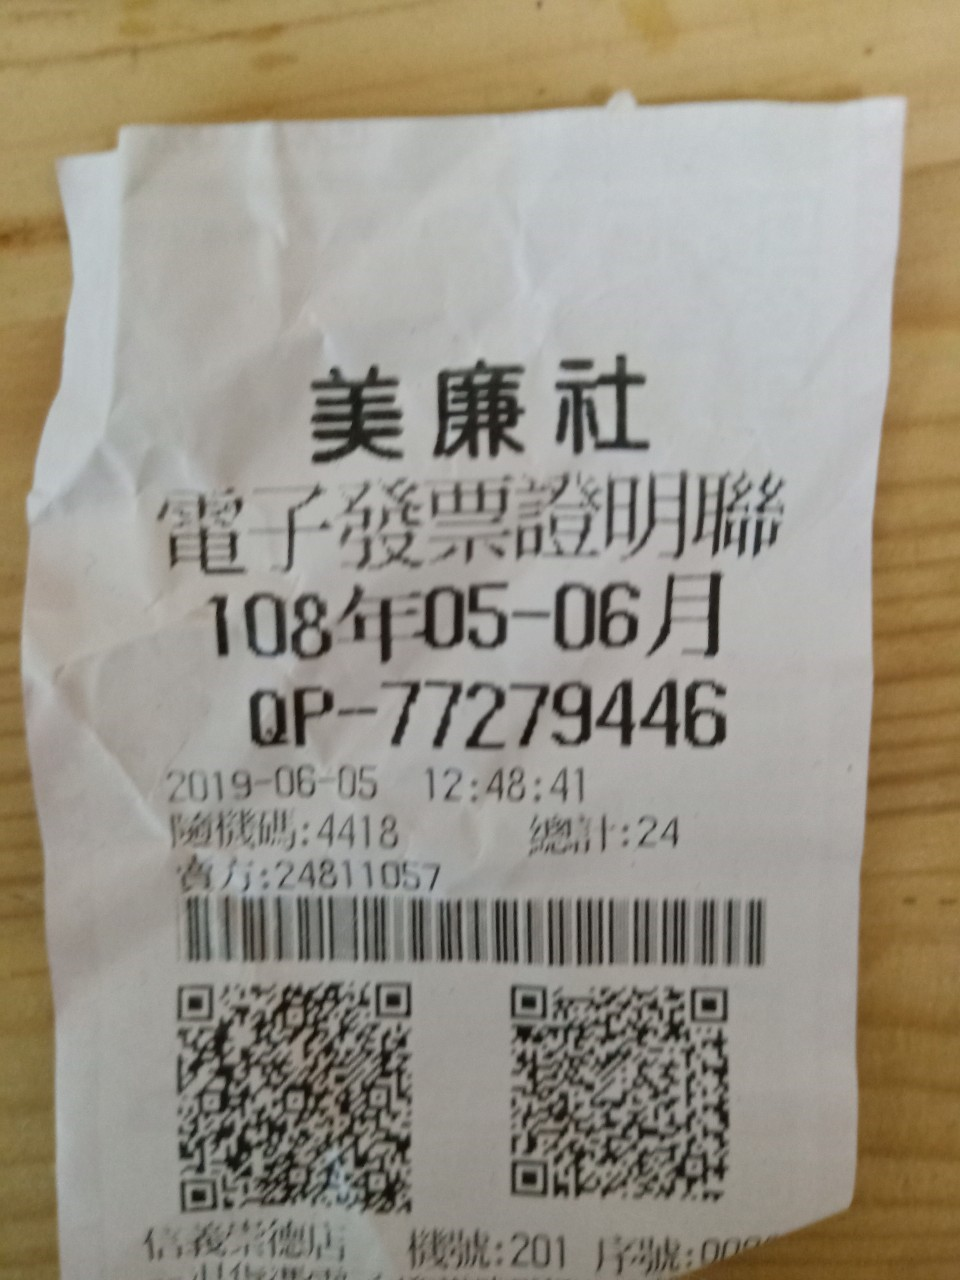Date_New: (205, 567, 728, 668)
Number_New: (375, 673, 738, 753)
